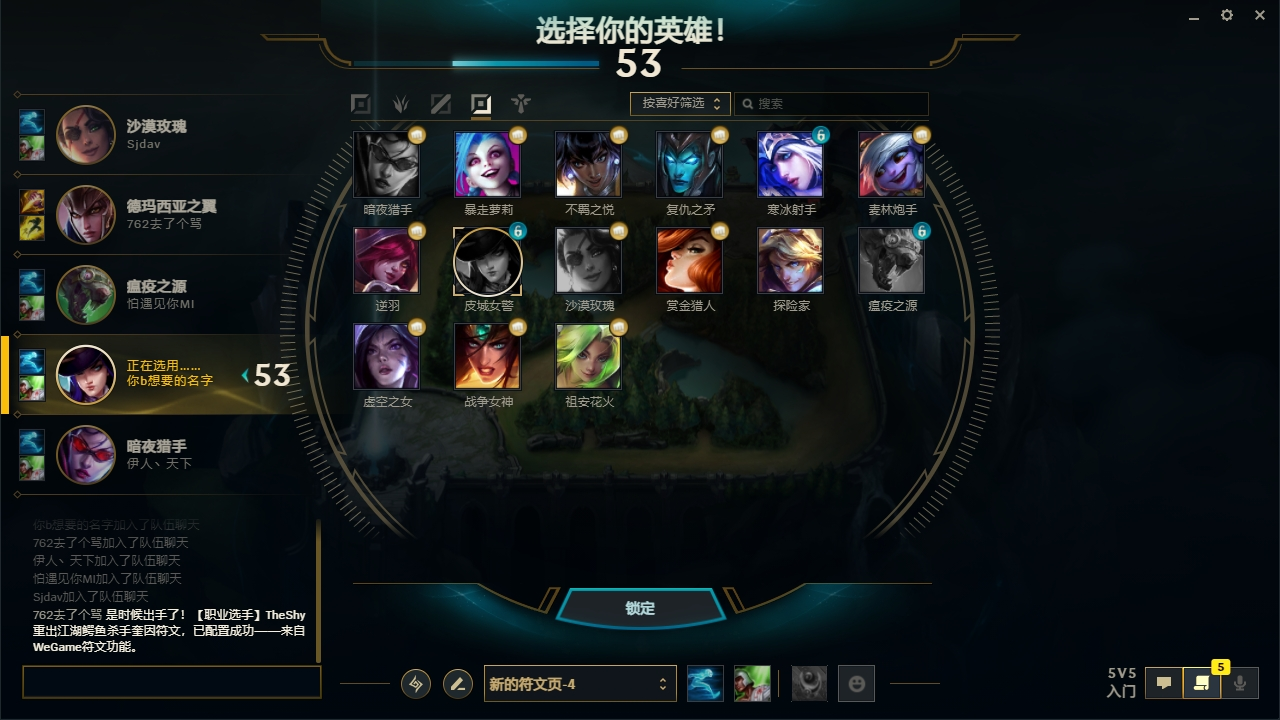HBSS: (754, 155, 827, 197)
JKS: (455, 150, 521, 199)
NQ: (656, 254, 726, 296)
SD: (553, 586, 737, 628)
XDXL: (464, 88, 498, 119)
XP: (856, 160, 924, 205)
